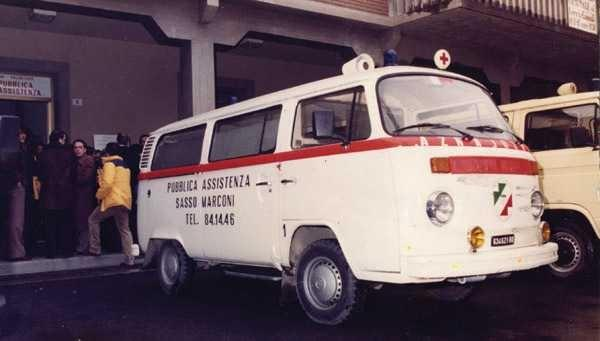car: (135, 50, 560, 326)
